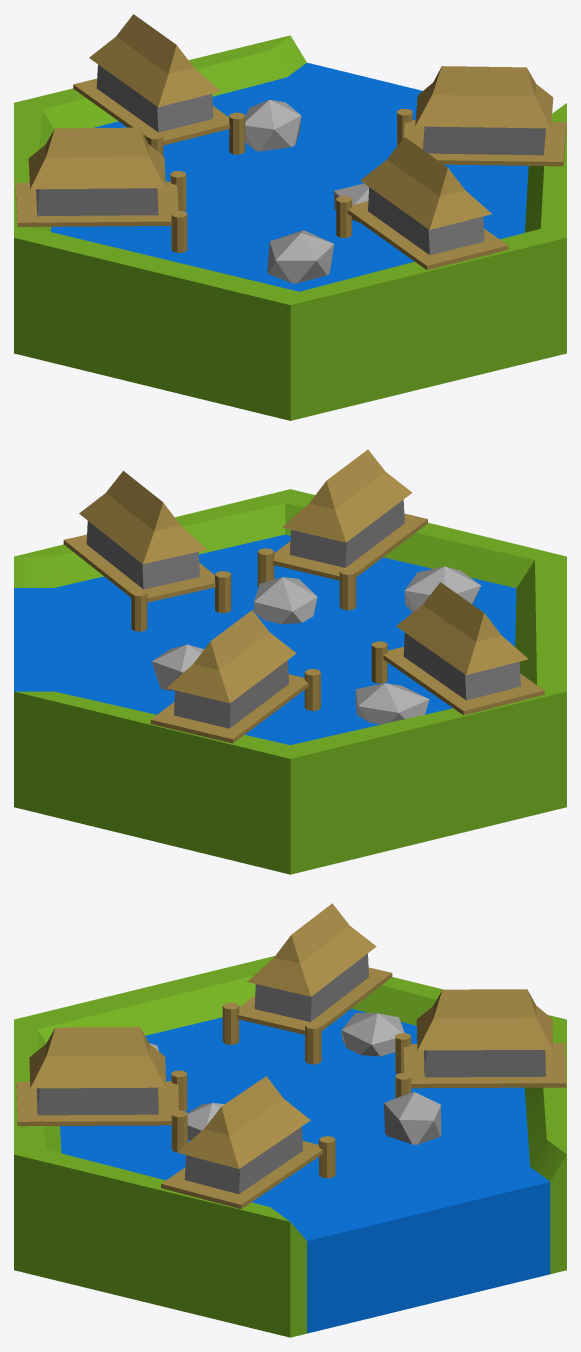
The model's file is Casas_Lago_4.fbx.
3 renders of one model, top to bottom at view 1: azimuth 30°, elevation 25°; view 2: azimuth 150°, elevation 25°; view 3: azimuth 270°, elevation 25°, orthographic.
Parts seen in each view (by area): view 1: Casas_Lago_4; view 2: Casas_Lago_4; view 3: Casas_Lago_4.
Boxes of the visible parts, x1,y1,x2,y2 form: Casas_Lago_4: (14,14,566,420); Casas_Lago_4: (14,449,566,874); Casas_Lago_4: (14,903,566,1337).
Bounding box in the file's own units: 200 × 67.29 × 173.
